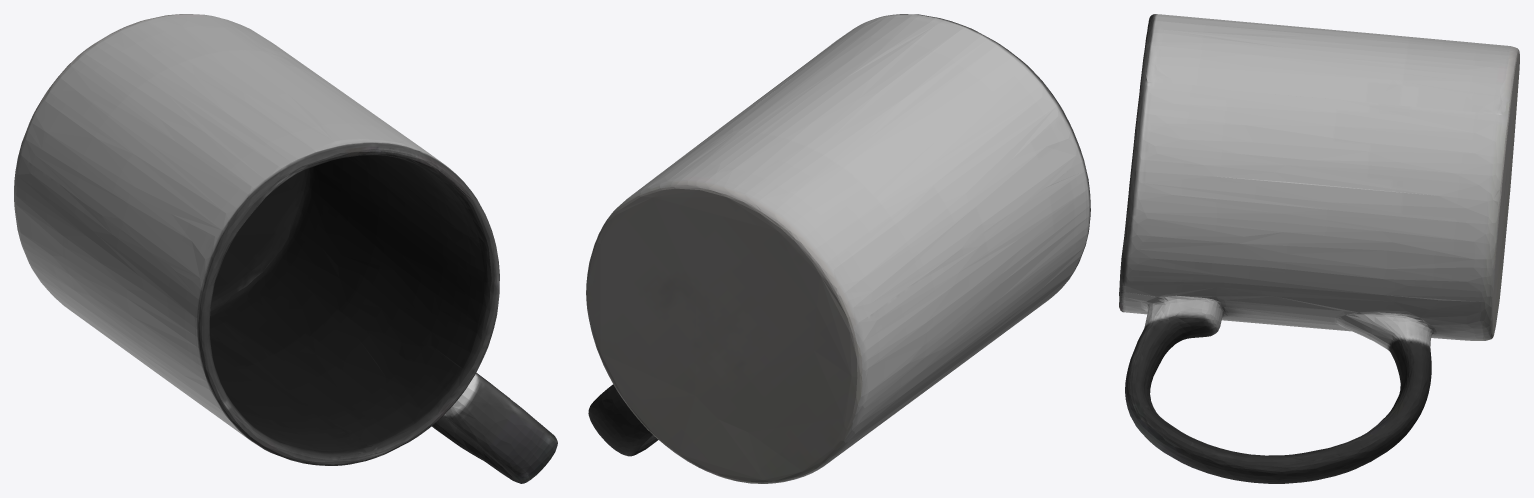
Rendered from mug4.glb.
The picture shows the model from 3 angles, left to right: view 1: azimuth 30°, elevation 25°; view 2: azimuth 150°, elevation 25°; view 3: azimuth 270°, elevation 25°; orthographic projection. The views are drawn at different scales.
Visible parts, largest first — view 1: geometry_0; view 2: geometry_0; view 3: geometry_0.
Boxes of the visible parts, box(x1,y1,x2,y2) form: geometry_0: box(14, 14, 557, 483); geometry_0: box(586, 14, 1090, 483); geometry_0: box(1119, 14, 1519, 483).
Size of the model in its own units: 0.0913 by 0.0917 by 0.0919.
1 material, 1 textured.
